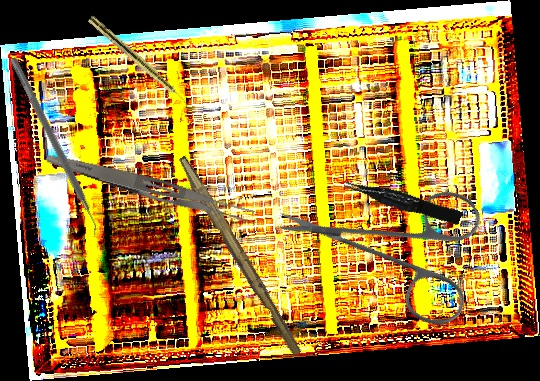Dressing Forceps: (42, 149, 257, 228)
Handpiece: (86, 14, 195, 112)
Iris Scissors: (274, 124, 520, 372)
Scalpel Handle: (171, 155, 307, 357)
Spatula Surgical: (1, 56, 107, 240)
Tissue Forceps: (342, 170, 463, 231)
